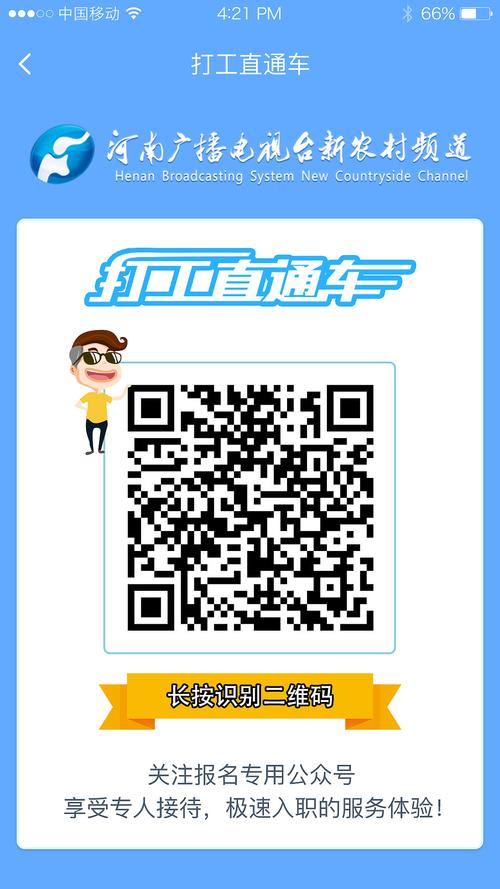QRCode: (125, 377, 386, 642)
